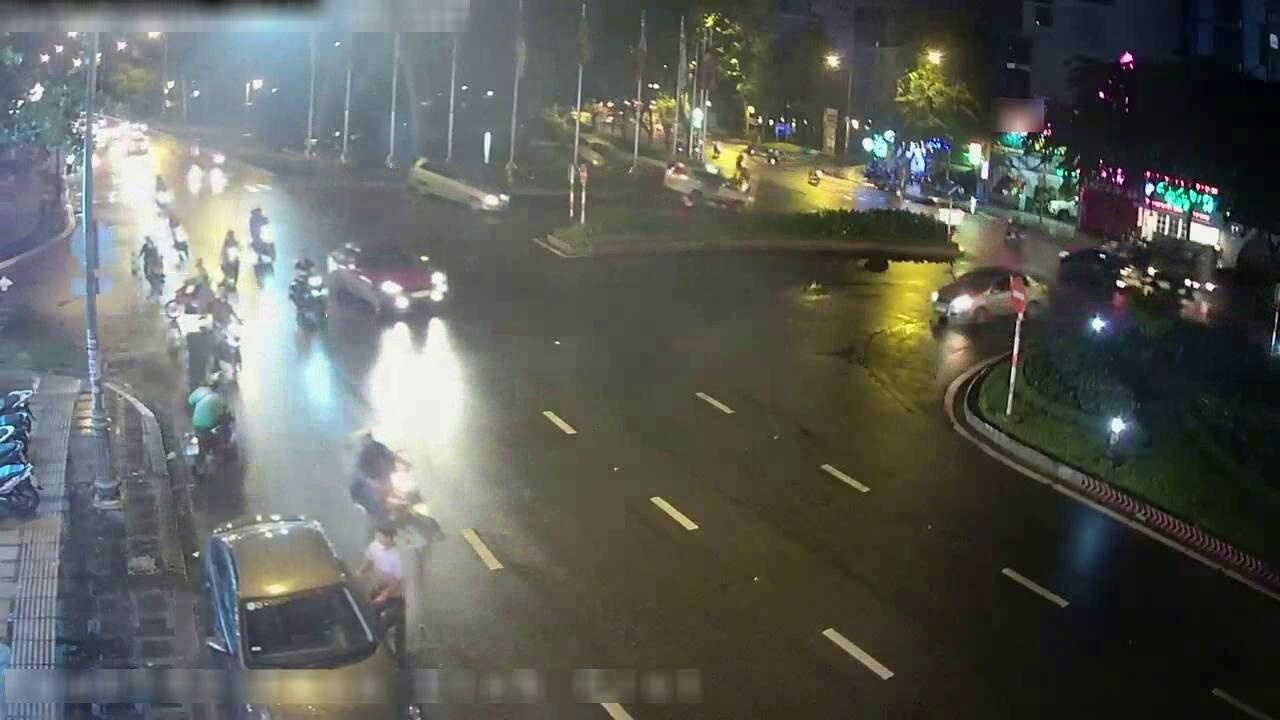Car: (202, 515, 402, 719), (326, 242, 449, 318), (931, 267, 1048, 324), (407, 157, 509, 218), (662, 161, 752, 209), (126, 131, 149, 155)
Motorcycle: (0, 463, 39, 516), (0, 388, 34, 439)
Motorcyclist: (183, 375, 236, 472), (209, 293, 242, 376), (289, 257, 327, 325), (165, 277, 228, 317), (135, 236, 165, 299), (249, 206, 275, 265), (219, 229, 243, 292), (165, 210, 189, 262), (153, 175, 173, 213), (206, 147, 229, 176), (178, 142, 203, 163)
Pedestrian: (360, 525, 405, 656), (350, 432, 399, 521)
Traffic light: (1116, 50, 1136, 112)
